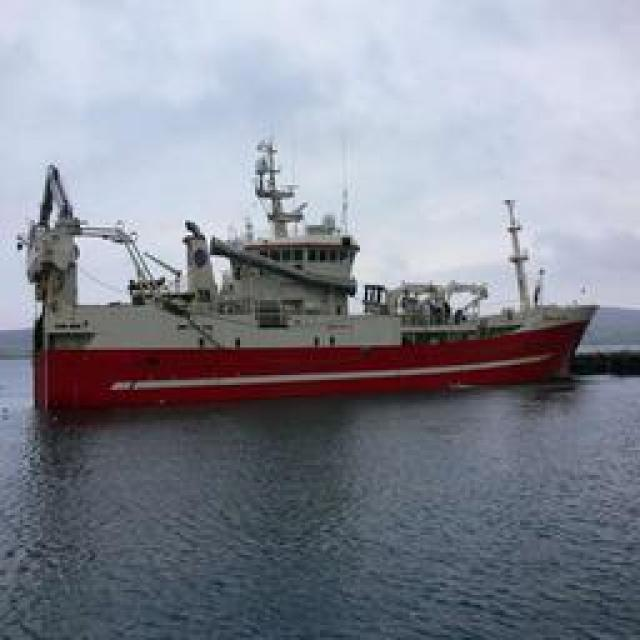CIV_Ship: (31, 130, 614, 400)
